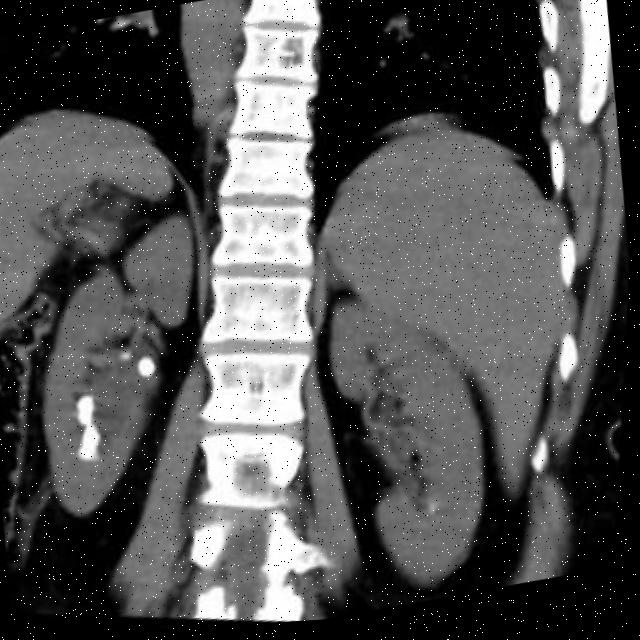Tas_Var: (74, 417, 115, 467), (72, 389, 104, 429), (135, 350, 166, 387), (118, 340, 140, 368), (431, 504, 443, 523)
